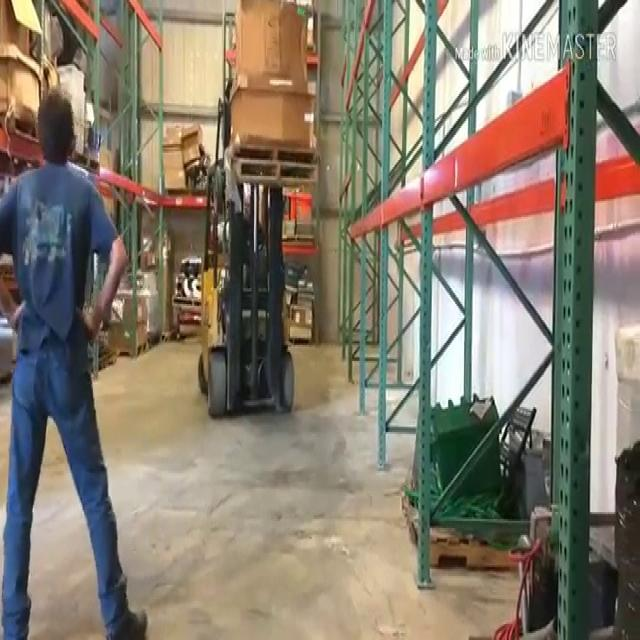Chariot elevateur: (198, 160, 303, 416)
